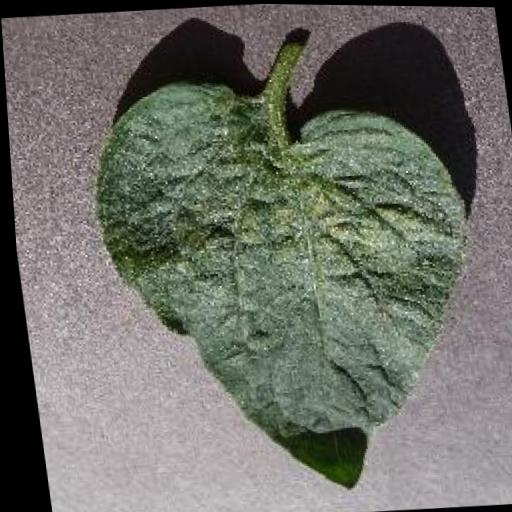Spider Mites: (74, 60, 498, 508)
